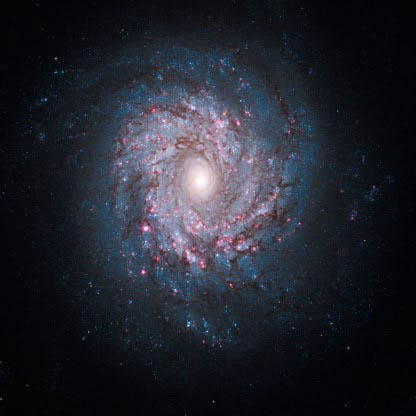NGC 3982: (52, 35, 335, 350)
